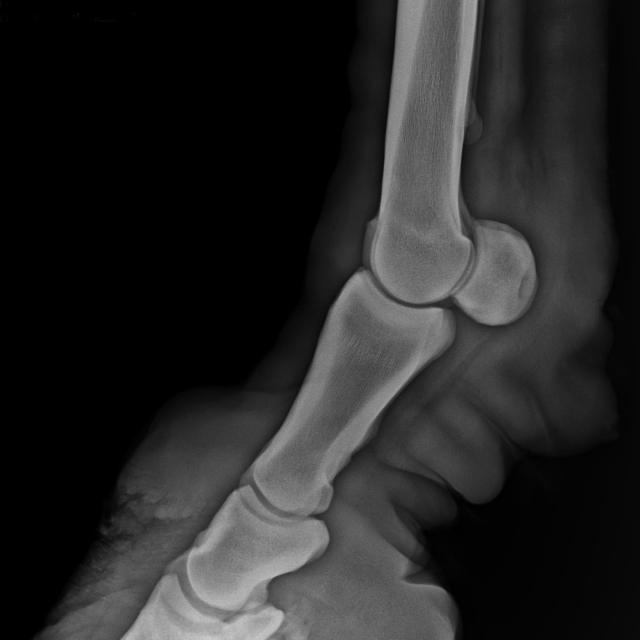joint-ht8A: (330, 174, 558, 371)
